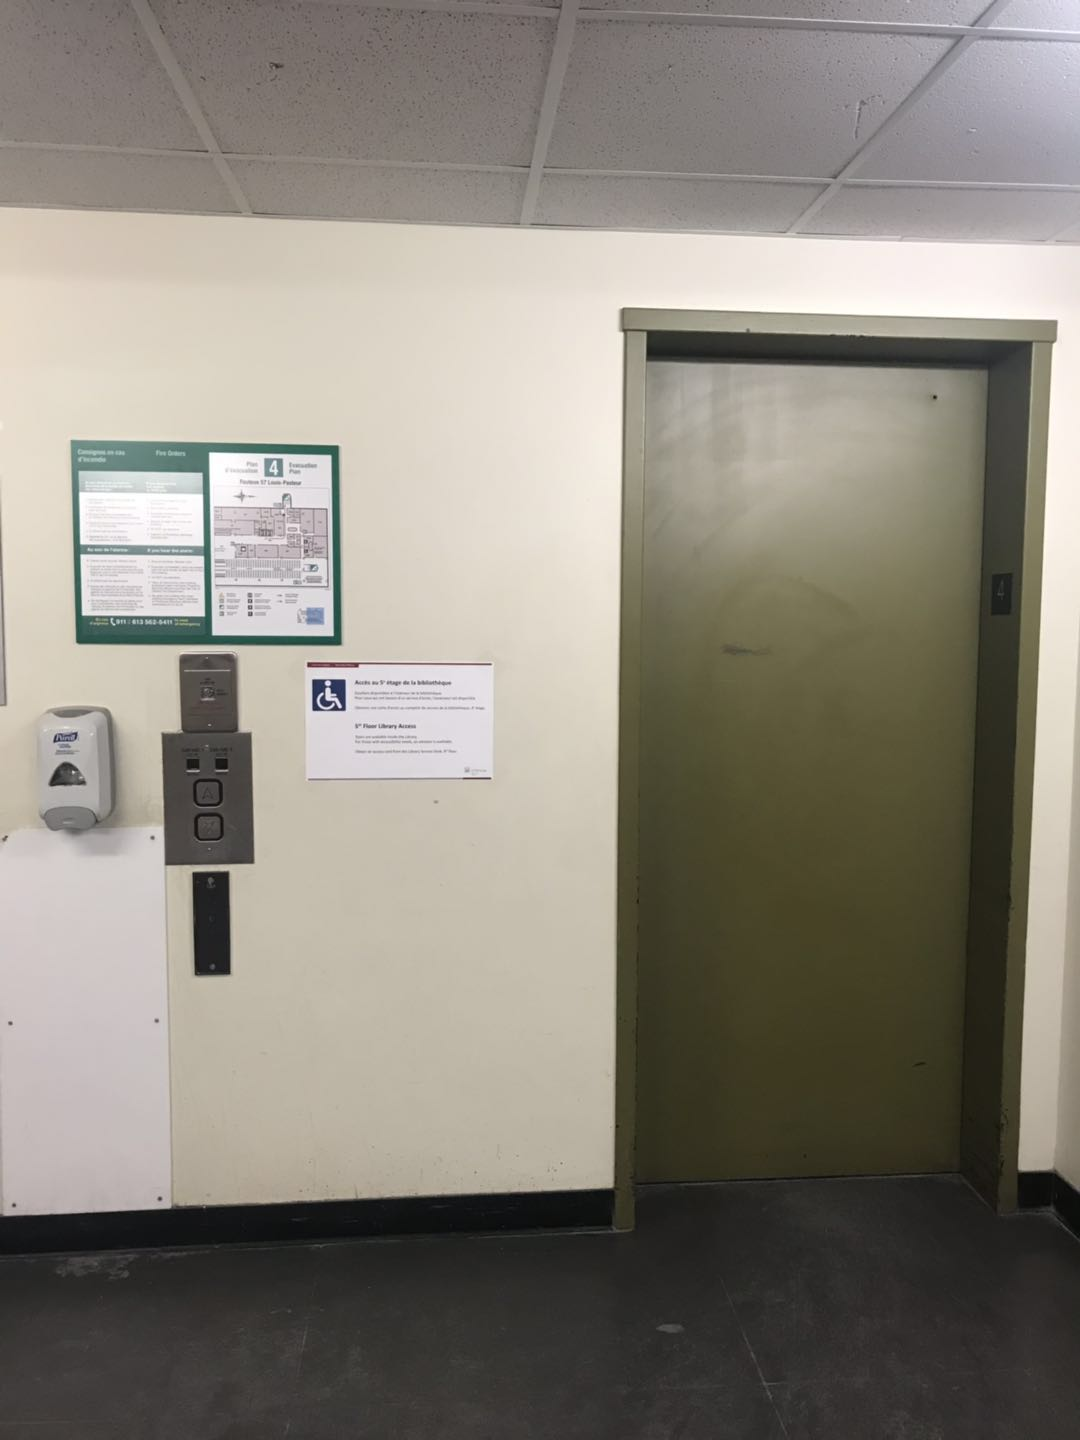door: (613, 308, 1057, 1236)
sign: (67, 440, 344, 644), (307, 660, 493, 781)
